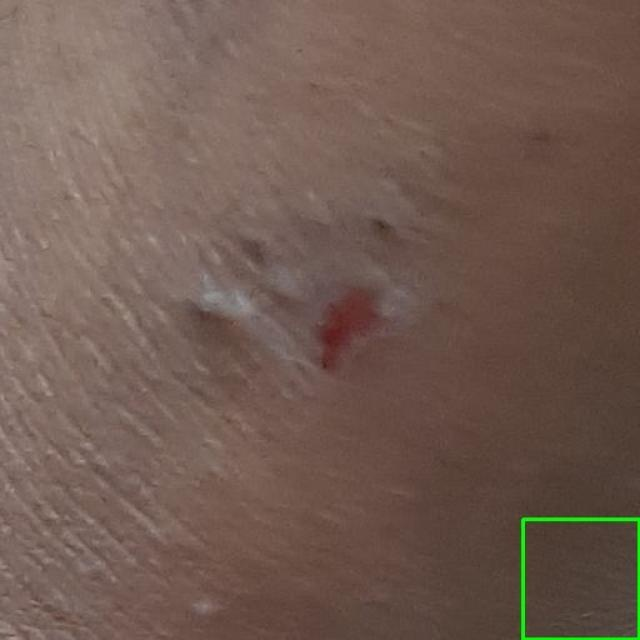Atopic Dermatitis: (522, 519, 639, 639)
